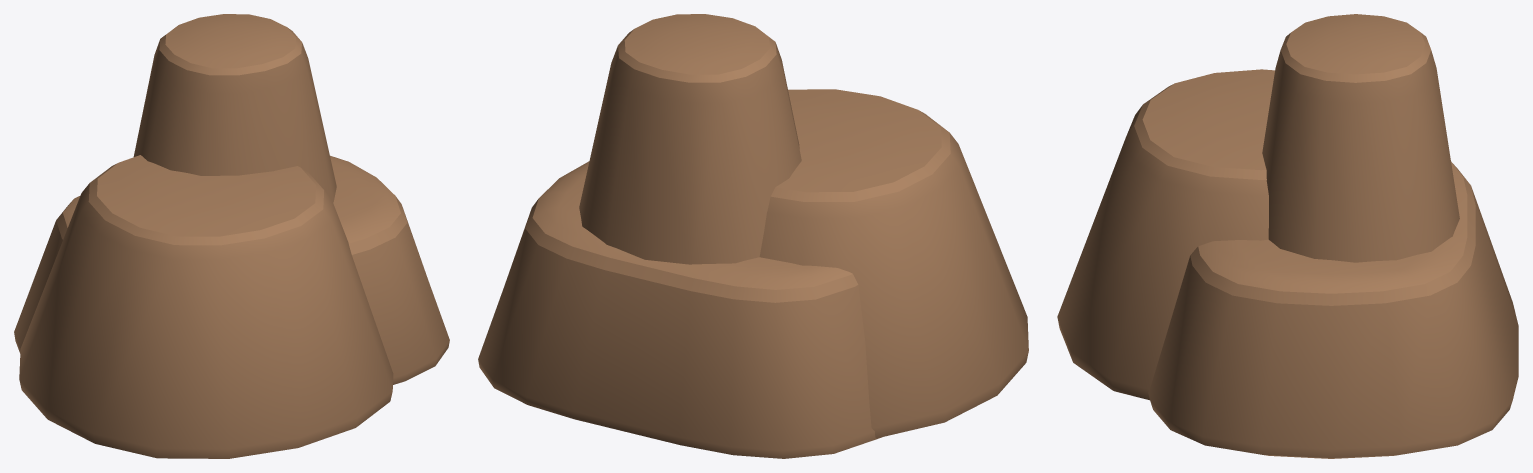
File: RockPlatforms_3.glb
3 renders of one model, left to right at view 1: azimuth 30°, elevation 25°; view 2: azimuth 150°, elevation 25°; view 3: azimuth 270°, elevation 25°, orthographic. The views are drawn at different scales.
Parts seen in each view (by area): view 1: RockPlatforms_3; view 2: RockPlatforms_3; view 3: RockPlatforms_3.
Boxes of the visible parts, x1,y1,x2,y2 form: RockPlatforms_3: [14, 14, 449, 458]; RockPlatforms_3: [478, 14, 1028, 458]; RockPlatforms_3: [1057, 14, 1518, 458].
Bounding box in the file's own units: 6 × 4.38 × 5.44.
